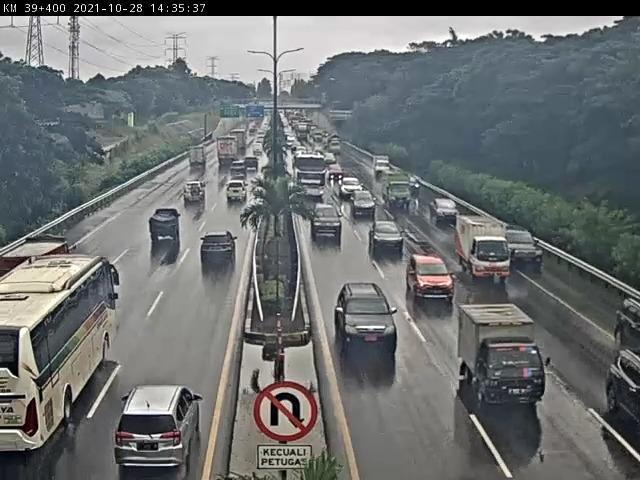bus: (2, 257, 121, 445), (296, 153, 328, 202)
car: (114, 386, 202, 469), (335, 282, 400, 352), (407, 252, 456, 300), (615, 351, 640, 429), (612, 298, 640, 347), (201, 233, 238, 270), (506, 234, 540, 268), (312, 204, 343, 236), (372, 222, 402, 250), (350, 191, 376, 215), (226, 182, 252, 205), (181, 182, 206, 205), (433, 201, 459, 222), (340, 178, 363, 196), (233, 161, 250, 178), (246, 158, 261, 172), (331, 166, 345, 181), (253, 145, 263, 158), (324, 154, 335, 164)
truck: (456, 304, 547, 408), (1, 236, 71, 303), (458, 219, 510, 280), (381, 173, 410, 209), (152, 211, 183, 244), (218, 136, 241, 166), (231, 131, 249, 156), (189, 147, 207, 168), (374, 157, 392, 174)
